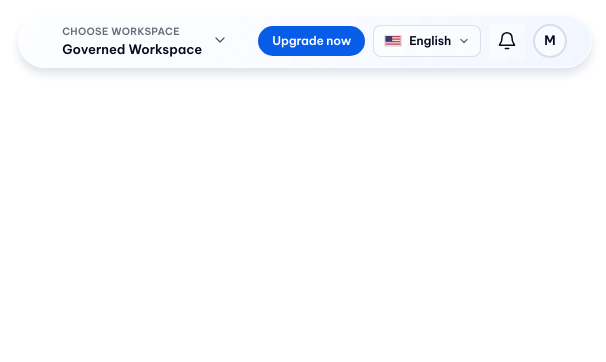
workspace topbar notifications › renders the server-provided zero allowance for a Free response without inventing credits
The image size is (606, 362).
What coordinates should you click on to do the following:
click the button named "User menu"
I would click on:
 (550, 41)
Its box is [533,24,567,58].
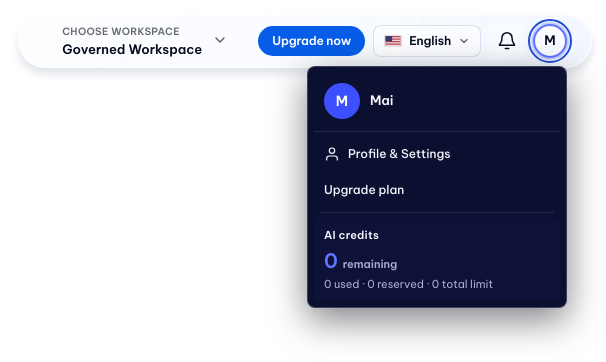
Expected: the element "AI credits" shows "0 total limit", [314,217,560,301]
Expected: the text "0" is shown, [324,250,338,270]
